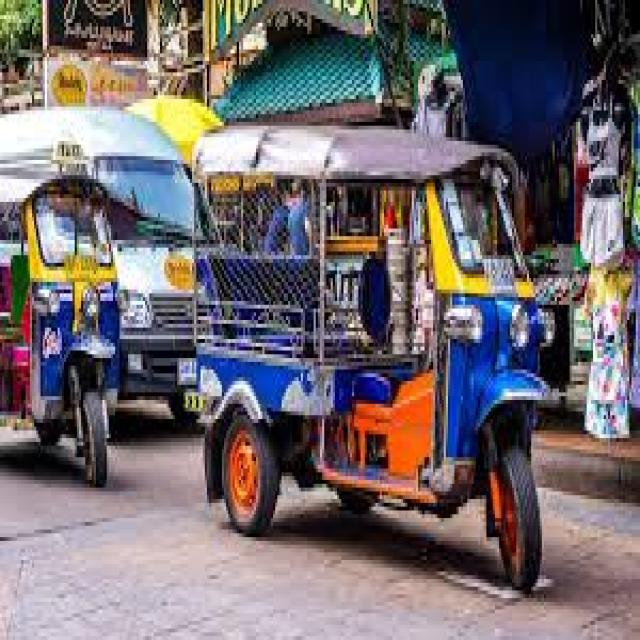tuktuk: (168, 62, 584, 640)
